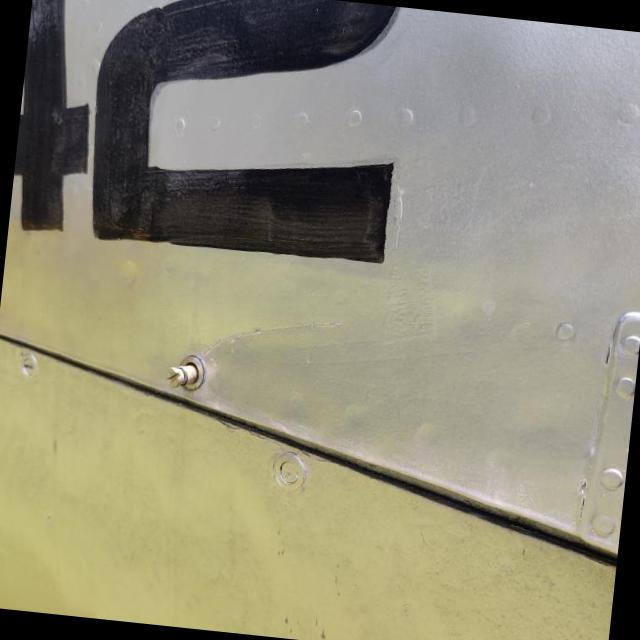Scratch: (197, 319, 346, 363)
